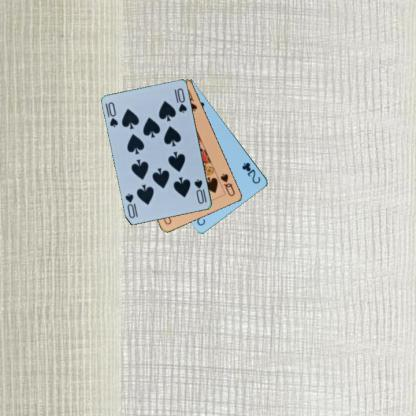10s: (192, 177, 208, 205), (106, 99, 119, 129)
2c: (240, 159, 262, 185)
Qs: (218, 171, 236, 198)
